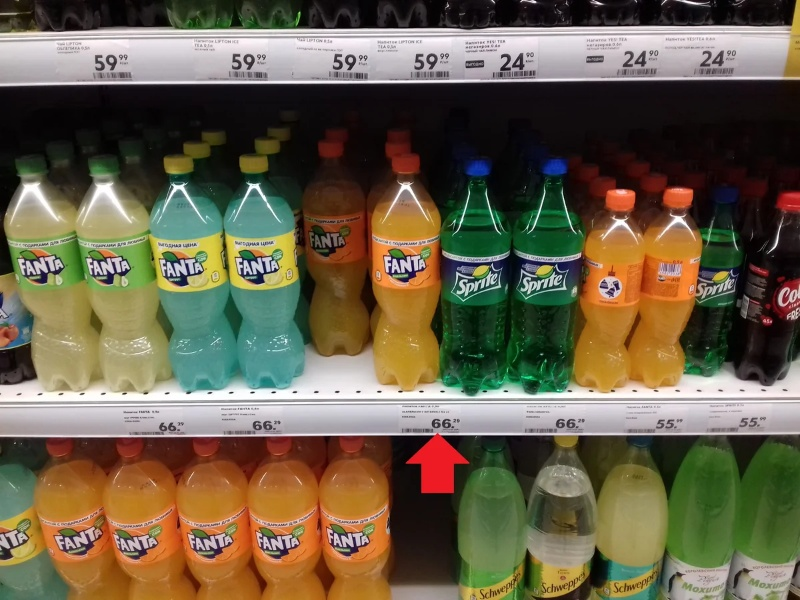lemonade: (75, 155, 183, 405), (212, 153, 314, 403), (144, 153, 243, 410), (502, 150, 590, 402), (364, 149, 451, 403), (436, 152, 523, 400), (4, 159, 92, 398), (294, 134, 382, 366), (631, 180, 704, 398), (576, 182, 649, 397)
